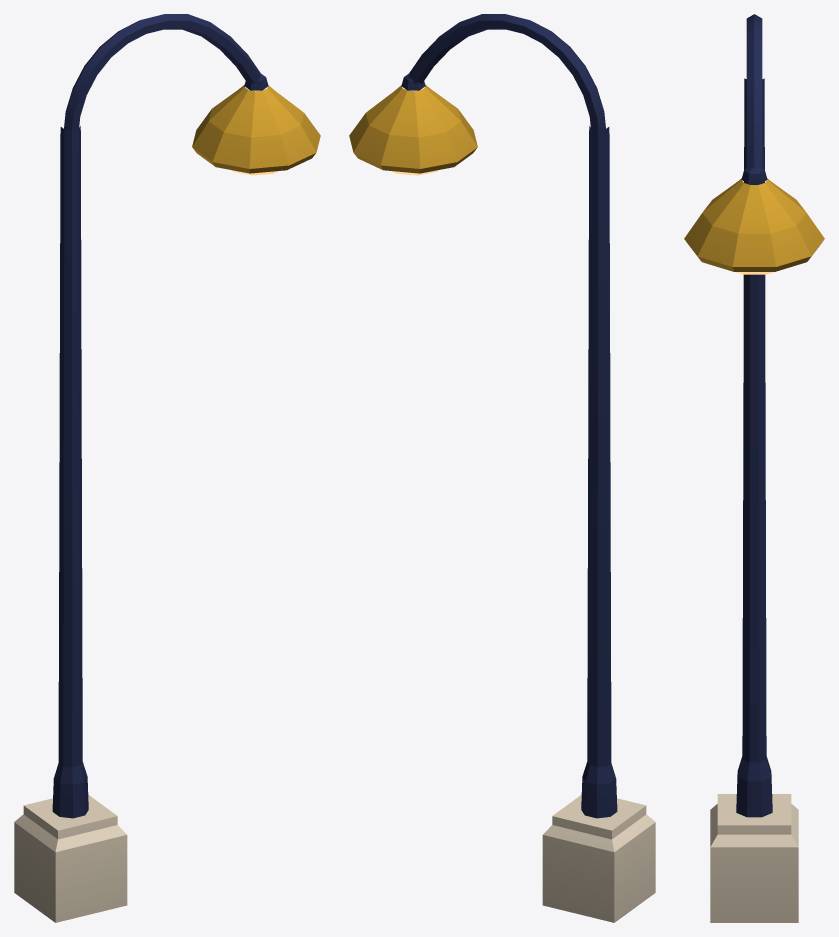
File: lamp_riviera.glb
The picture shows the model from 3 angles, left to right: view 1: azimuth 30°, elevation 25°; view 2: azimuth 150°, elevation 25°; view 3: azimuth 270°, elevation 25°; orthographic projection. The views are drawn at different scales.
Visible parts, largest first — view 1: post; view 2: post; view 3: post.
Part boxes in pixels (left/top/right/bottom): post: left=14, top=14, right=320, bottom=922; post: left=349, top=14, right=655, bottom=922; post: left=684, top=14, right=824, bottom=922.
Bounding box in the file's own units: 1.31 × 3.9 × 0.5402.
Materials: 2 (1 with a texture image).
